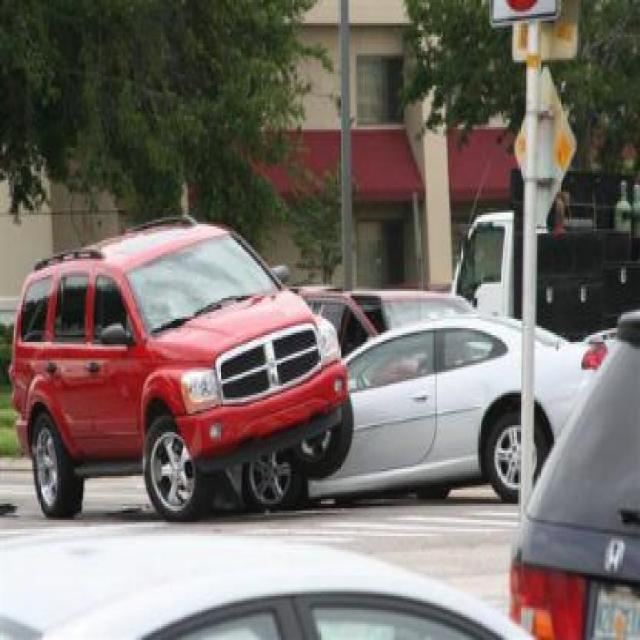accident: (11, 213, 563, 526)
